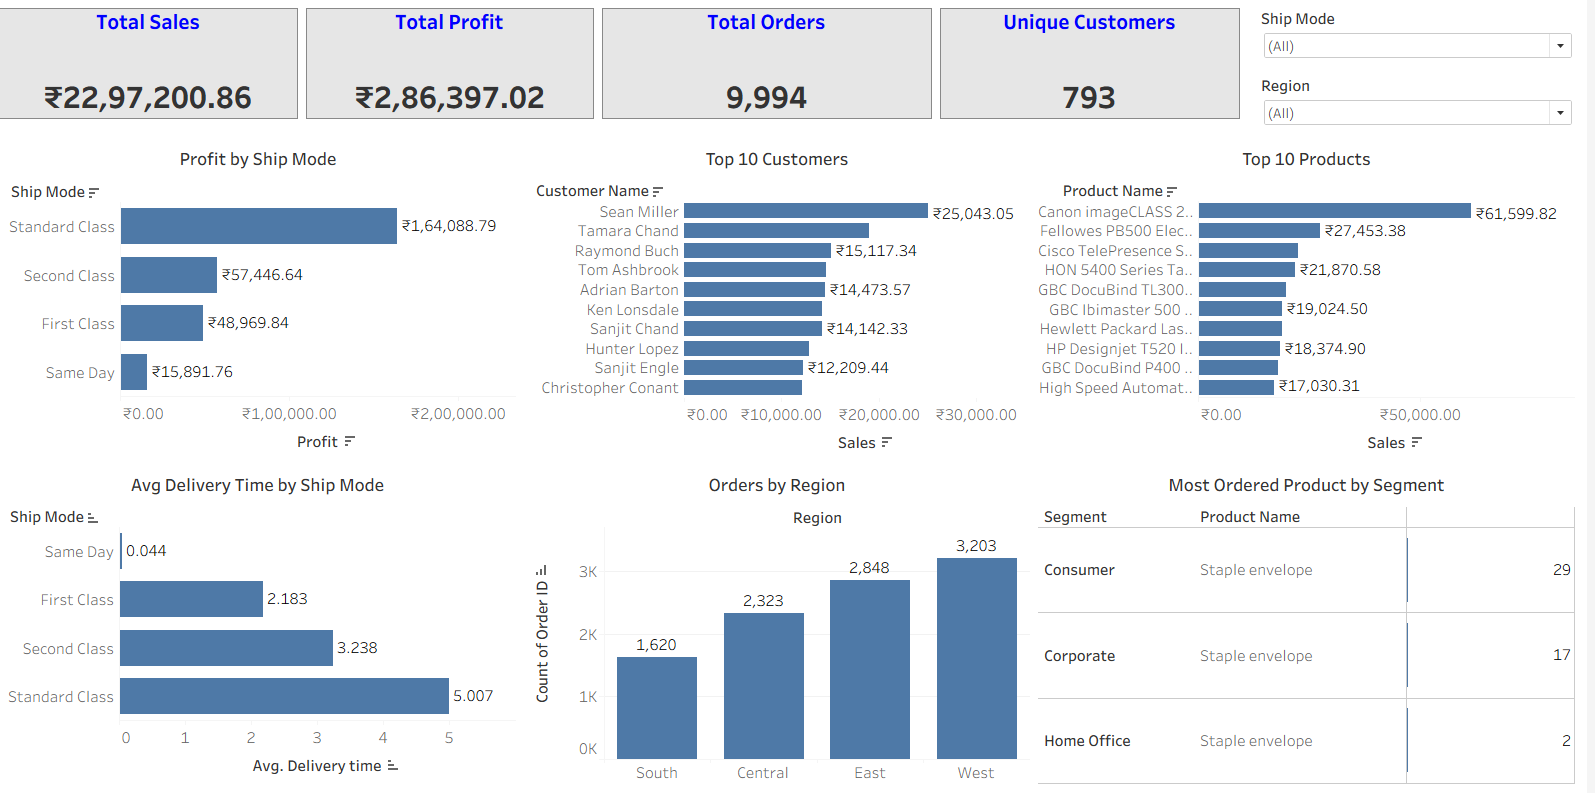

What the dashboard file says about the page in this screenshot:
{"tool":"tableau","page":{"name":"Dashboard 1","canvas":[1600,800],"ordinal":0},"visuals":[{"type":"worksheet","title":"KPI – Total Sales","mark":"Text","box":[8,8,307,134]},{"type":"worksheet","title":"KPI – Total Profit","mark":"Automatic","box":[315,8,296,134]},{"type":"worksheet","title":"KPI – Total Orders","mark":"Automatic","box":[611,8,338,134]},{"type":"worksheet","title":"KPI – Unique Customers","mark":"Automatic","box":[949,8,321.5,134]},{"type":"filter","title":"Profit by Ship Mode","param":"[federated.0b547vl1ef9kl518fztmu0ee5jgf].[none:Ship Mode:nk]","box":[1270.5,8,321.5,61]},{"type":"filter","title":"Profit by Ship Mode","param":"[federated.0b547vl1ef9kl518fztmu0ee5jgf].[none:Region:nk]","box":[1270.5,75,321.5,67]},{"type":"worksheet","title":"Profit by Ship Mode","mark":"Bar","rows":["Ship Mode"],"cols":["Profit"],"box":[8,142,525,326]},{"type":"worksheet","title":"Top 10 Customers","mark":"Automatic","rows":["Customer Name"],"cols":["Sales"],"box":[533,142,514,326]},{"type":"worksheet","title":"Top 10 Products","mark":"Automatic","rows":["Product Name"],"cols":["Sales"],"box":[1047,142,545,326]},{"type":"worksheet","title":"Avg Delivery Time by Ship Mode","mark":"Automatic","rows":["Ship Mode"],"cols":["Calculation_4108085430689792"],"box":[8,468,525,324]},{"type":"worksheet","title":"Orders by Region","mark":"Automatic","rows":["Order ID"],"cols":["Region"],"box":[533,468,514,324]},{"type":"worksheet","title":"Most Ordered Product by Segment","mark":"Bar","rows":["Segment","Product Name"],"box":[1047,468,545,324]}]}

Visuals, with their boxes in screenshot pixels (x1, y1, x2, y2), scaled from the page's 1600x800 canvas onto the 1595x793 screenshot:
"KPI – Total Sales" worksheet (Text marks): (x1=8, y1=8, x2=314, y2=141)
"KPI – Total Profit" worksheet: (x1=314, y1=8, x2=609, y2=141)
"KPI – Total Orders" worksheet: (x1=609, y1=8, x2=946, y2=141)
"KPI – Unique Customers" worksheet: (x1=946, y1=8, x2=1267, y2=141)
"Profit by Ship Mode" filter: (x1=1267, y1=8, x2=1587, y2=68)
"Profit by Ship Mode" filter: (x1=1267, y1=74, x2=1587, y2=141)
"Profit by Ship Mode" worksheet (Bar marks): (x1=8, y1=141, x2=531, y2=464)
"Top 10 Customers" worksheet: (x1=531, y1=141, x2=1044, y2=464)
"Top 10 Products" worksheet: (x1=1044, y1=141, x2=1587, y2=464)
"Avg Delivery Time by Ship Mode" worksheet: (x1=8, y1=464, x2=531, y2=785)
"Orders by Region" worksheet: (x1=531, y1=464, x2=1044, y2=785)
"Most Ordered Product by Segment" worksheet (Bar marks): (x1=1044, y1=464, x2=1587, y2=785)
